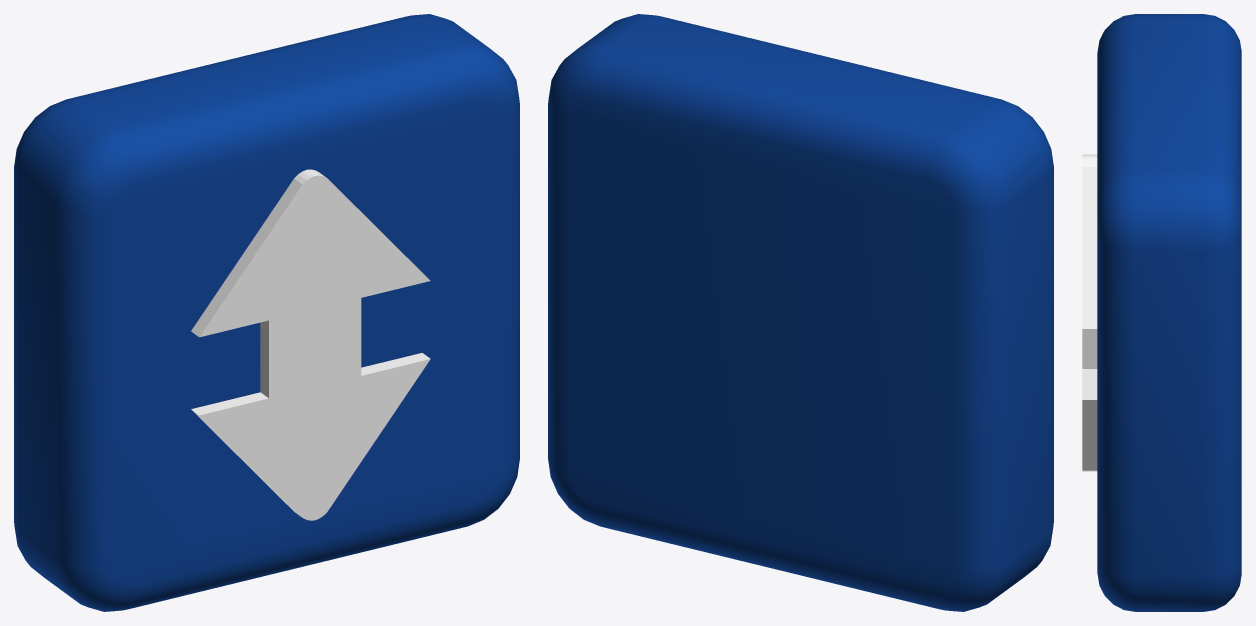
The model's file is up_down_arrow.glb.
The picture shows the model from 3 angles, left to right: view 1: azimuth 30°, elevation 25°; view 2: azimuth 150°, elevation 25°; view 3: azimuth 270°, elevation 25°; orthographic projection. The views are drawn at different scales.
Parts seen in each view (by area): view 1: Cube.6328; view 2: Cube.6328; view 3: Cube.6328.
Boxes of the visible parts, x1,y1,x2,y2 form: Cube.6328: [14, 14, 519, 611]; Cube.6328: [548, 14, 1053, 611]; Cube.6328: [1082, 14, 1241, 611].
Size of the model in its own units: 2.2 by 2.2 by 0.73.
1 material, 1 textured.
